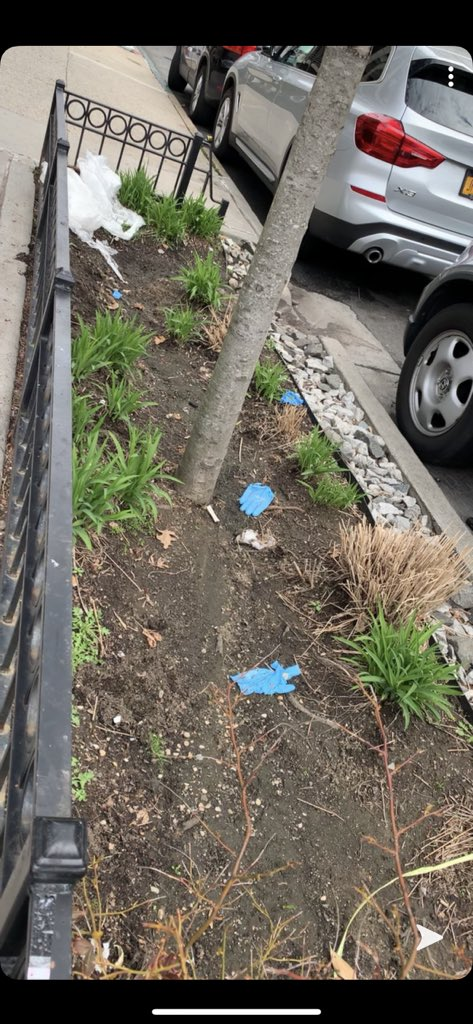car: (217, 28, 470, 289)
tree: (140, 14, 403, 517)
